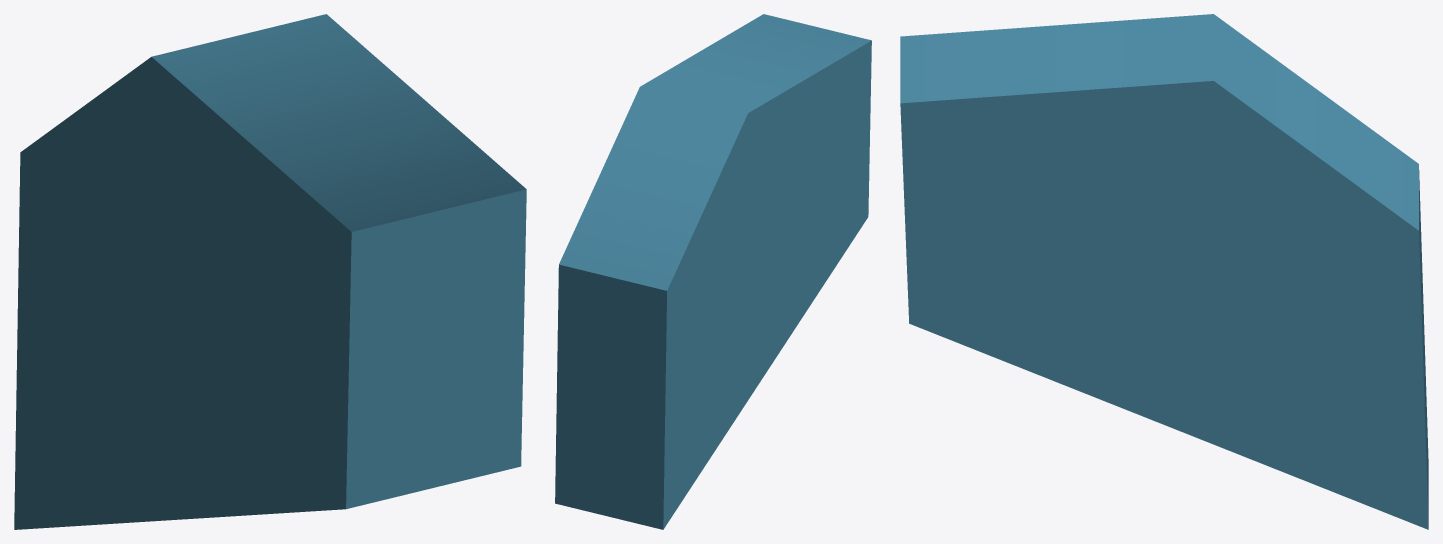
File: NexusC_Trigger_33.fbx
3 renders of one model, left to right at view 1: azimuth 30°, elevation 25°; view 2: azimuth 150°, elevation 25°; view 3: azimuth 270°, elevation 25°, orthographic. The views are drawn at different scales.
Parts seen in each view (by area): view 1: polySurface24; view 2: polySurface24; view 3: polySurface24.
Boxes of the visible parts, x1,y1,x2,y2 form: polySurface24: (14,14,526,529); polySurface24: (555,14,871,529); polySurface24: (900,14,1428,529).
Bounding box in the file's own units: 11.18 × 34.99 × 37.3.
